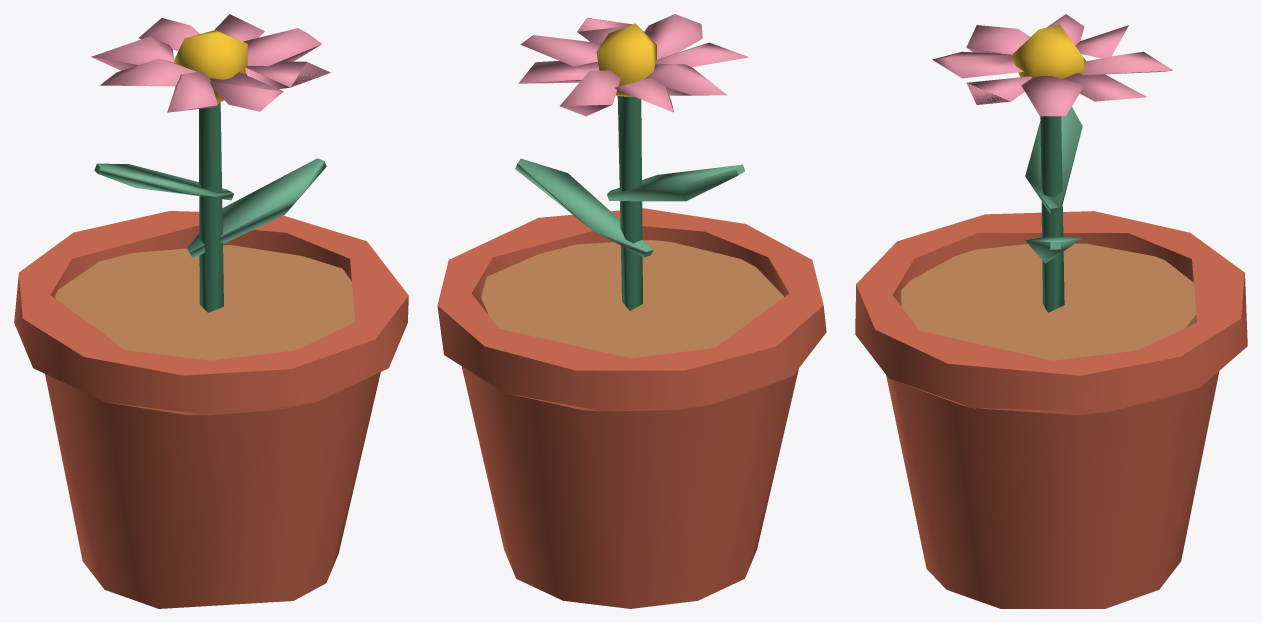
The model's file is flower_pot.glb.
The picture shows the model from 3 angles, left to right: view 1: azimuth 30°, elevation 25°; view 2: azimuth 150°, elevation 25°; view 3: azimuth 270°, elevation 25°; orthographic projection.
Visible parts, largest first — view 1: flower_pot; view 2: flower_pot; view 3: flower_pot.
Part boxes in pixels (box(x1,y1,x2,y2)): flower_pot: box(14, 14, 408, 608); flower_pot: box(437, 14, 826, 608); flower_pot: box(855, 14, 1247, 608).
Size of the model in its own units: 0.7355 by 1.1 by 0.7342.
Materials: 1 (1 with a texture image).
